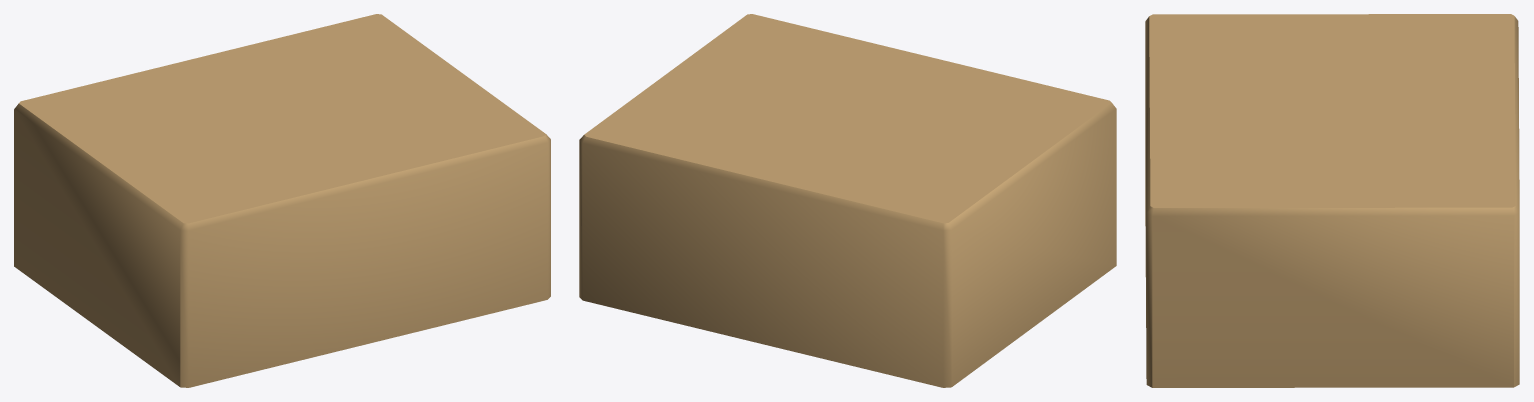
File: BrokenRuin_brickSmall_01.fbx
3 views of the same model, side by side, from view 1: azimuth 30°, elevation 25°; view 2: azimuth 150°, elevation 25°; view 3: azimuth 270°, elevation 25° (orthographic). The views are drawn at different scales.
Parts seen in each view (by area): view 1: brickSmall_01; view 2: brickSmall_01; view 3: brickSmall_01.
Boxes of the visible parts, x1=… form: brickSmall_01: x1=14, y1=14, x2=550, y2=387; brickSmall_01: x1=579, y1=14, x2=1116, y2=387; brickSmall_01: x1=1145, y1=14, x2=1519, y2=387.
Bounding box in the file's own units: 123 × 51.37 × 98.05.
